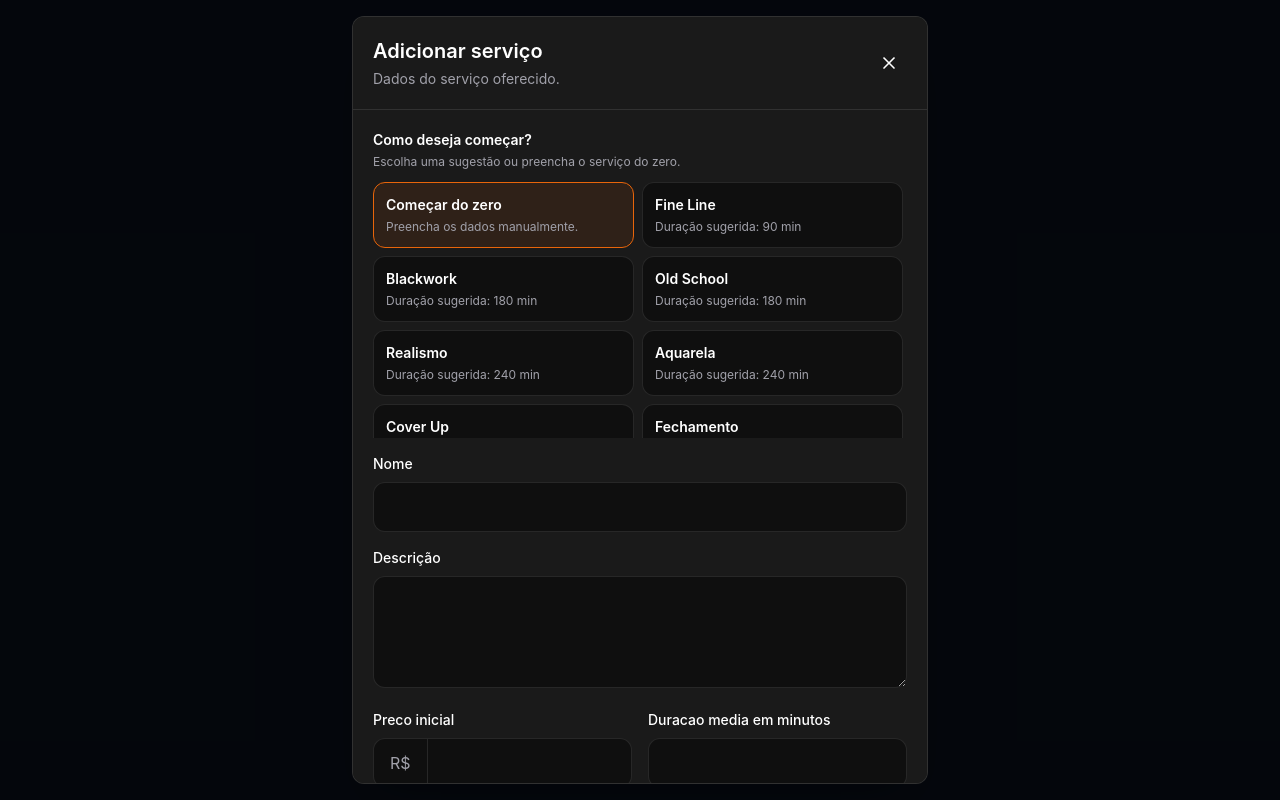
Test: ServiceModal › applies a template while preserving the price entered by the user
Type "250" into the number field labelled "Preco inicial" at (529, 763), box 428,739 -> 631,787
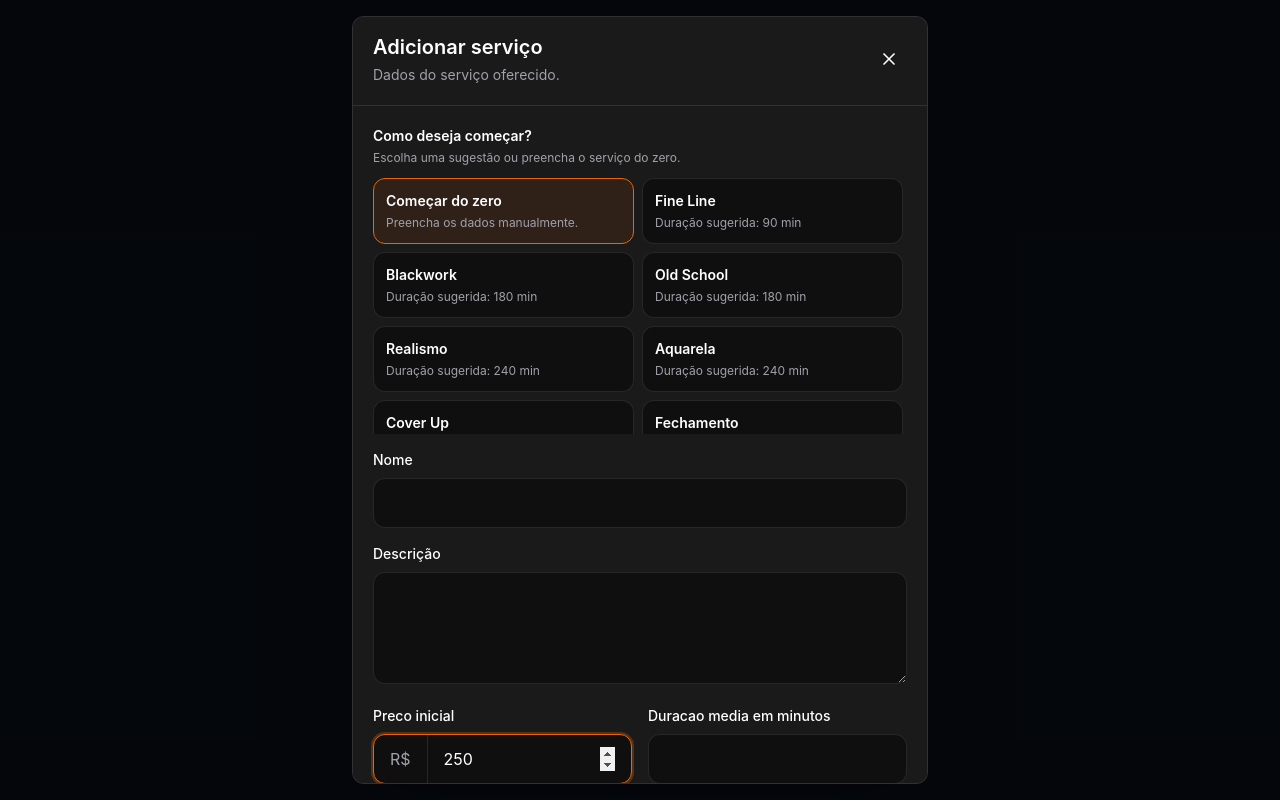
Click the button "Fine Line Duração sugerida: 90 min" at (685, 200), box 642,178 -> 903,244
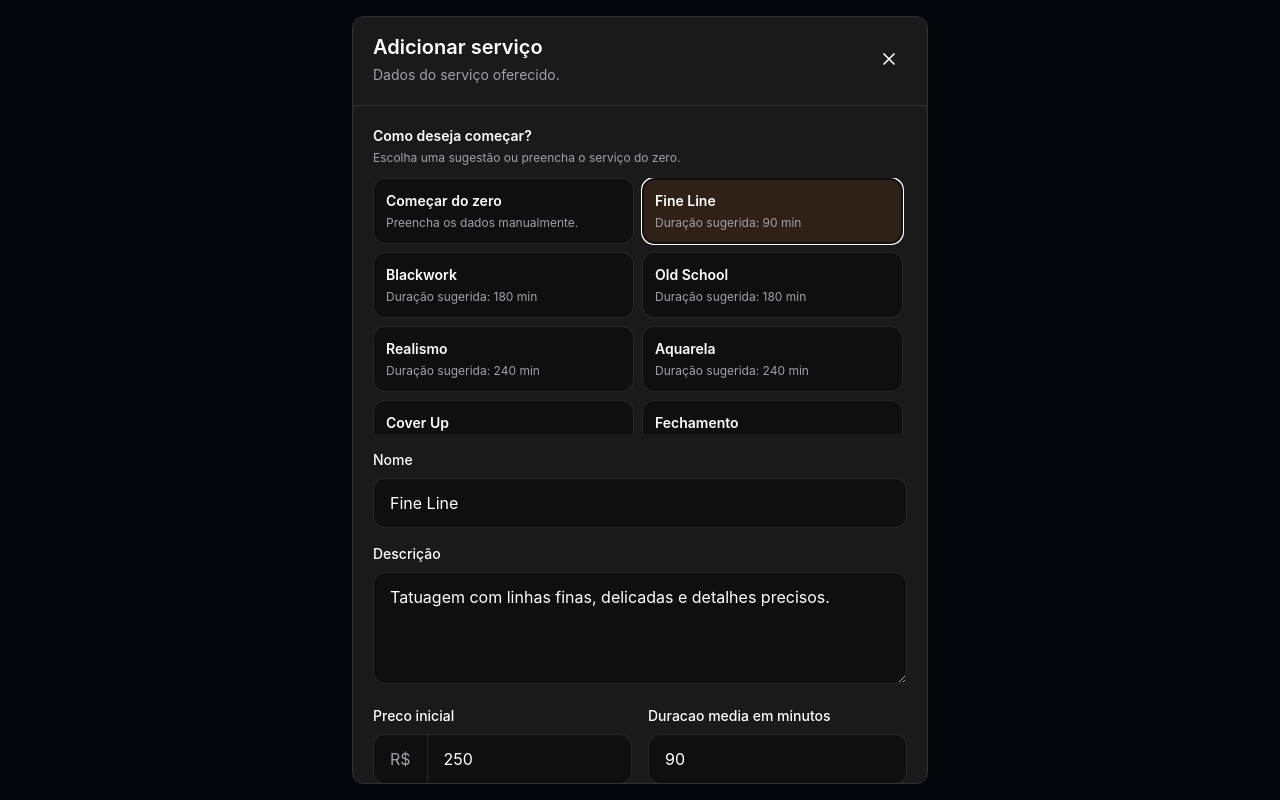
Now the field labelled "Nome" holds "Fine Line", box 373,478 -> 907,528
Now the number field labelled "Duracao media em minutos" holds "90", box 648,734 -> 907,784
Now the text box labelled "Descrição" holds "Tatuagem com linhas finas, delicadas e detalhes precisos.", box 373,572 -> 907,684
